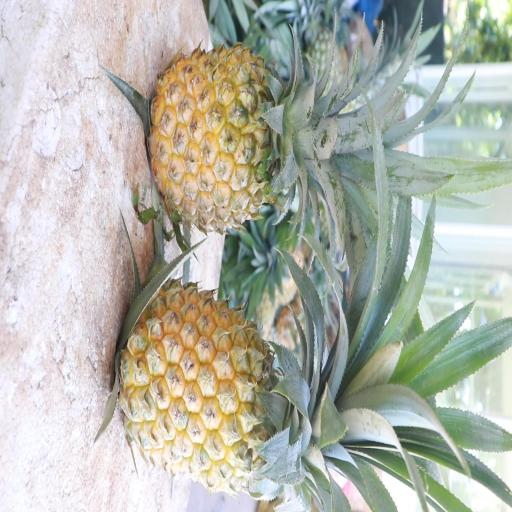Pineapple - v8 v1: (112, 278, 370, 495), (146, 39, 352, 238)
